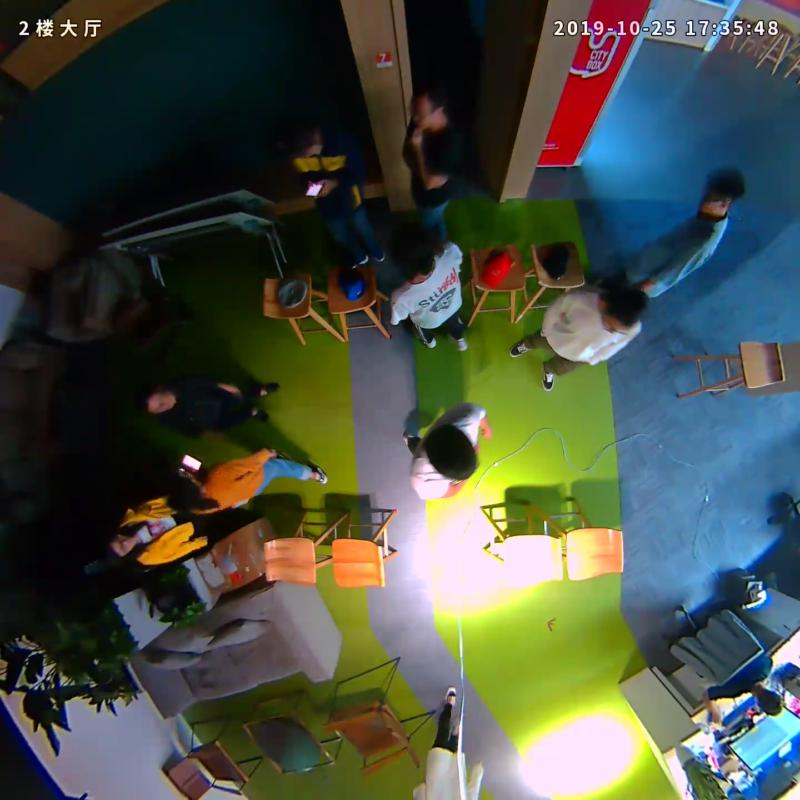head: (419, 420, 482, 483), (384, 224, 444, 285), (693, 166, 753, 221), (158, 467, 216, 519), (595, 282, 644, 342), (400, 81, 457, 131), (85, 524, 139, 576), (269, 115, 327, 160), (127, 372, 179, 422)
